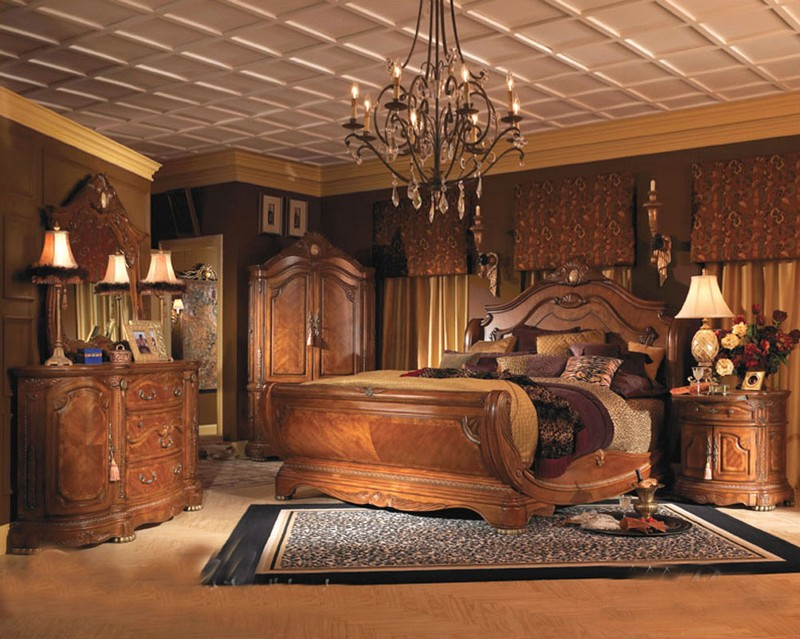bed: (266, 254, 685, 532)
lamp: (29, 221, 85, 367), (671, 266, 737, 387), (141, 240, 192, 355), (95, 248, 135, 354)
stool: (13, 355, 206, 555), (672, 382, 795, 517)
